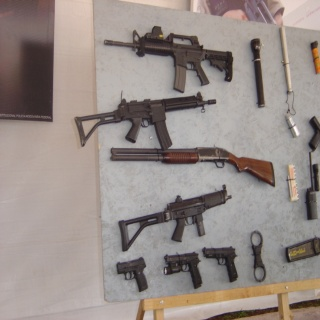pistol: (203, 245, 243, 285), (163, 252, 205, 290), (114, 257, 151, 292)
rifle: (63, 89, 219, 149), (99, 24, 234, 92), (116, 184, 236, 250)
shotgun: (108, 145, 278, 187)
